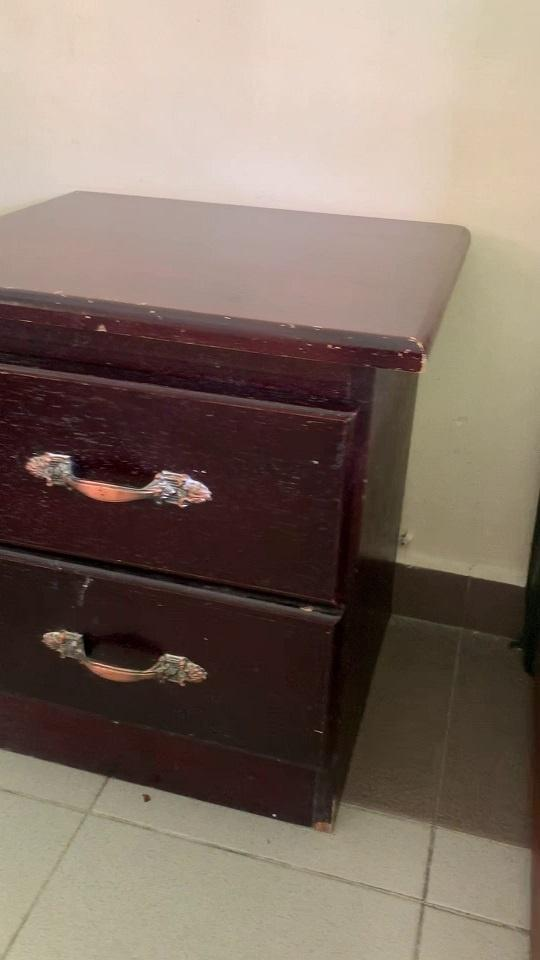cabinet_door: (0, 378, 344, 565), (0, 566, 327, 752)
handle: (22, 448, 223, 518), (41, 624, 216, 698)
